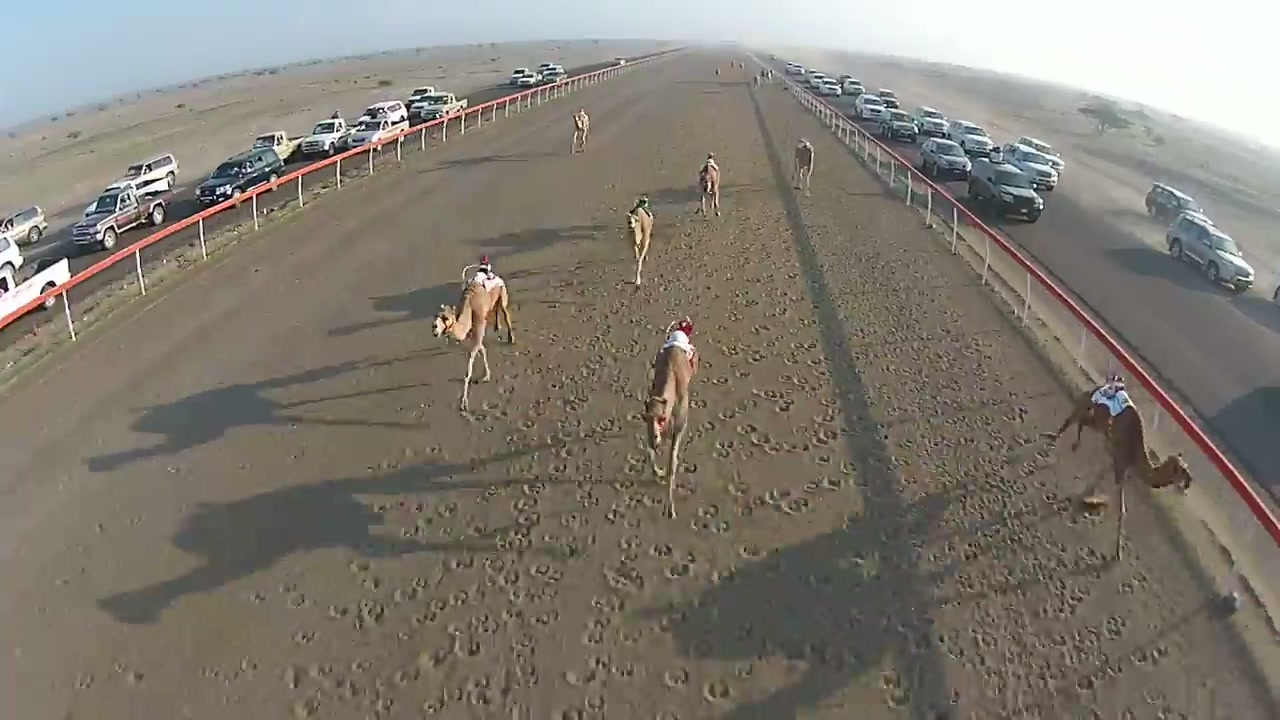animal_footprint: (175, 83, 1196, 717)
